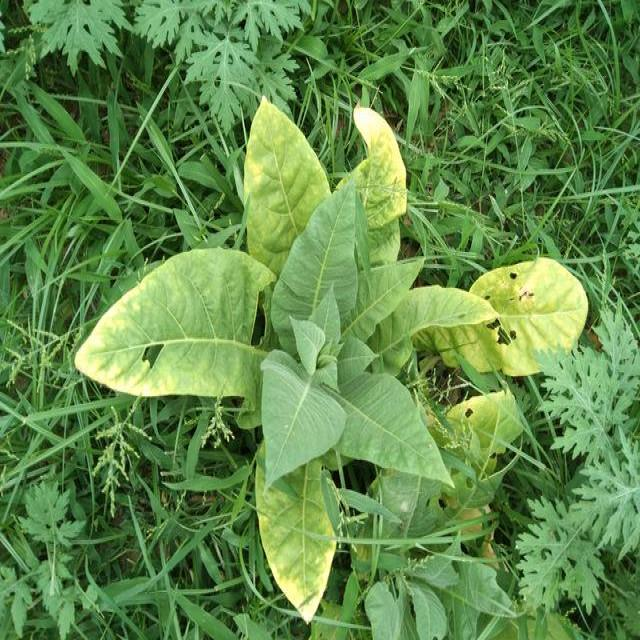crop: (69, 89, 585, 610)
